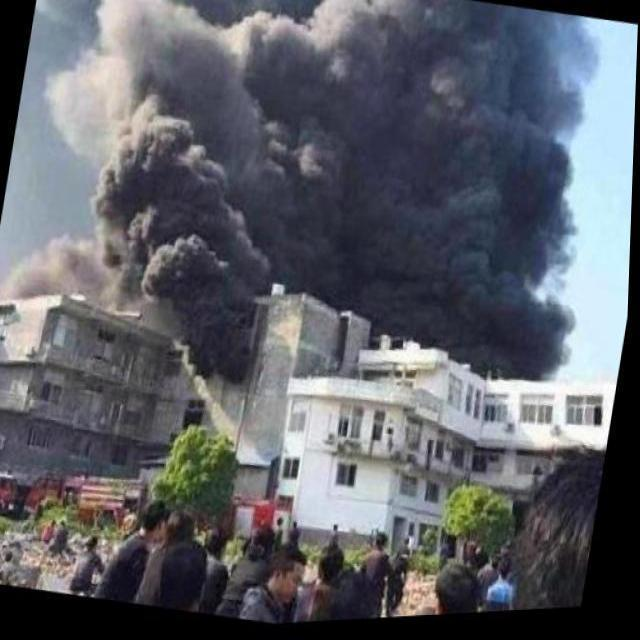smoke: (100, 0, 365, 299), (448, 6, 617, 390), (316, 0, 500, 349), (31, 0, 145, 170), (145, 262, 265, 390), (9, 220, 146, 323)
